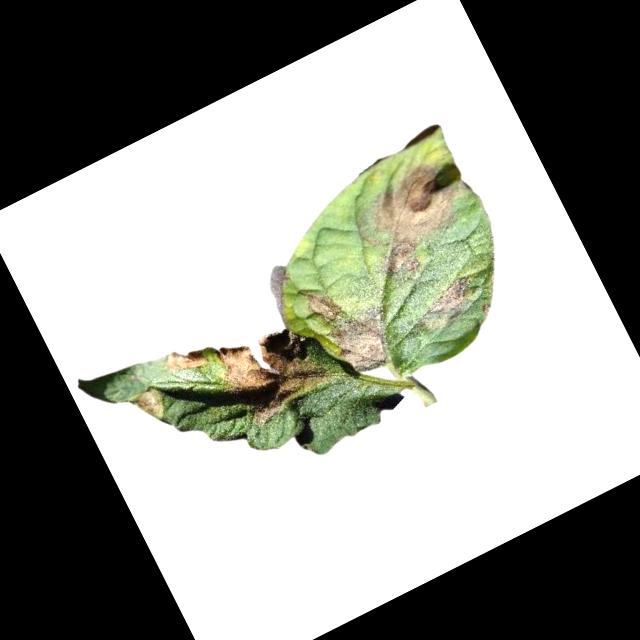Late_blight: (344, 155, 481, 287), (206, 306, 339, 434), (325, 301, 407, 382), (405, 272, 486, 342), (157, 338, 211, 384), (127, 383, 172, 430), (304, 284, 344, 327)
